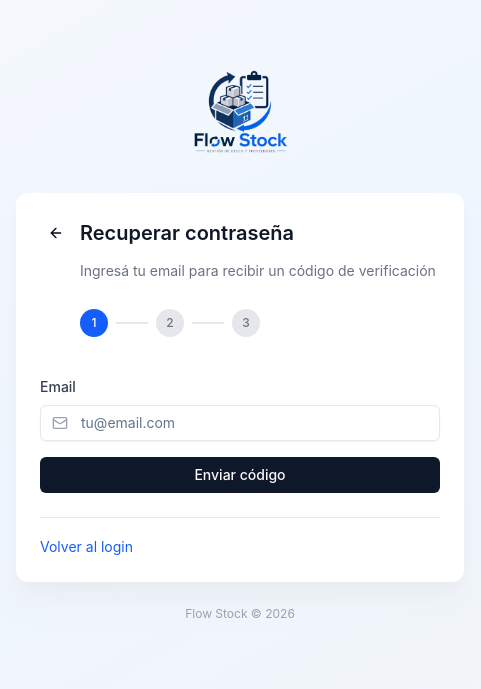
ResetPasswordPage › Paso 3 - Contraseña › valida contraseña muy corta
Type "test@test.com" into the field with placeholder "tu@email.com". click: (240,422)
box: top-left (40, 404), bottom-right (440, 440)
Click the button "Enviar código". click: (240,474)
box: top-left (40, 456), bottom-right (440, 492)
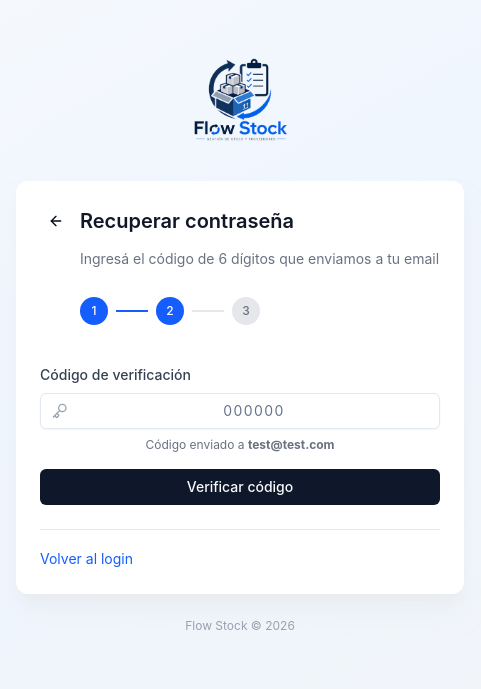
Check: the field with placeholder "000000" is shown
Type "123456" into the field with placeholder "000000". click: (240,410)
box: top-left (40, 392), bottom-right (440, 428)
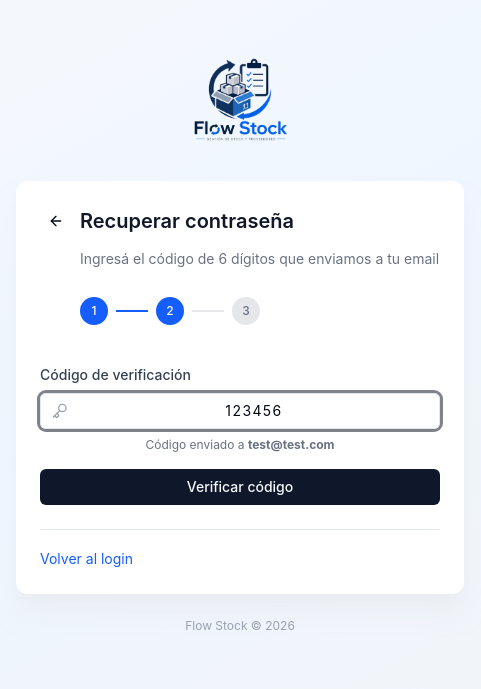
Click the button "Verificar código". click: (240,486)
box: top-left (40, 468), bottom-right (440, 504)
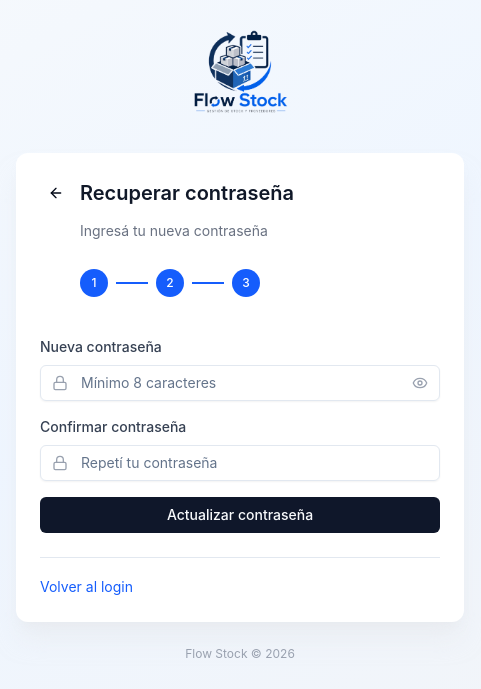
Check: the password field with placeholder "Mínimo 8 caracteres" is shown
Type "123" into the password field with placeholder "Mínimo 8 caracteres". click: (240,382)
box: top-left (40, 364), bottom-right (440, 400)
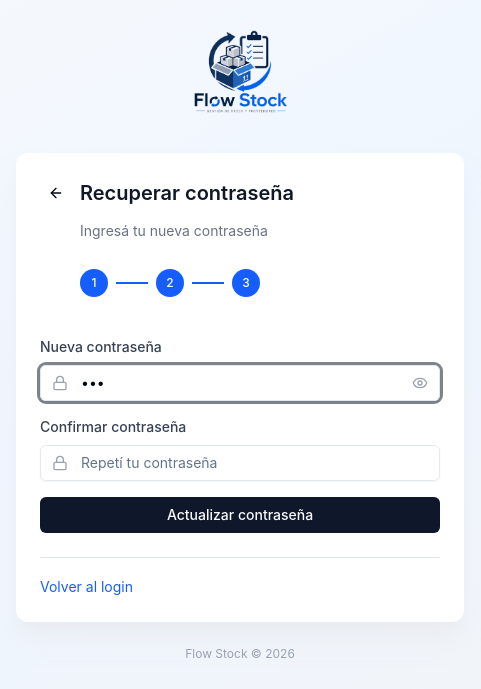
Type "123" into the password field with placeholder "Repetí tu contraseña". click: (240,462)
box: top-left (40, 444), bottom-right (440, 480)
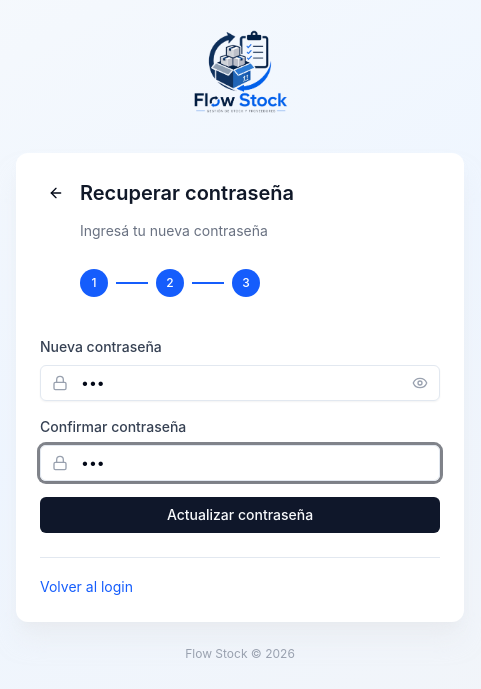
Click the button "Actualizar contraseña". click: (240,514)
box: top-left (40, 496), bottom-right (440, 532)
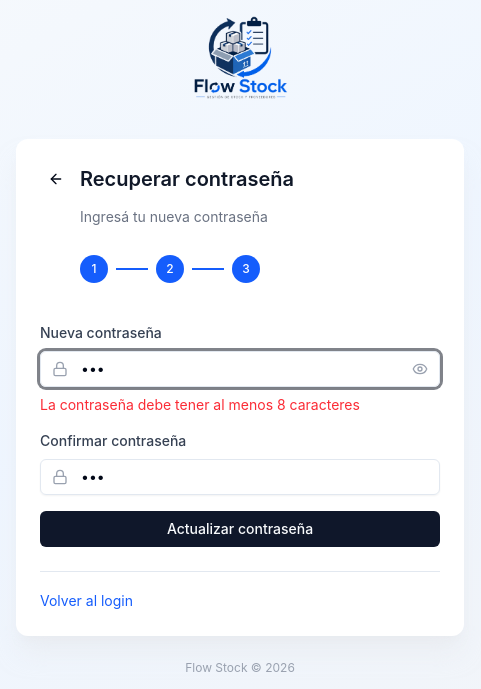
Check: the text "La contraseña debe tener al menos 8 caracteres" is shown, box top-left (40, 396), bottom-right (360, 412)
